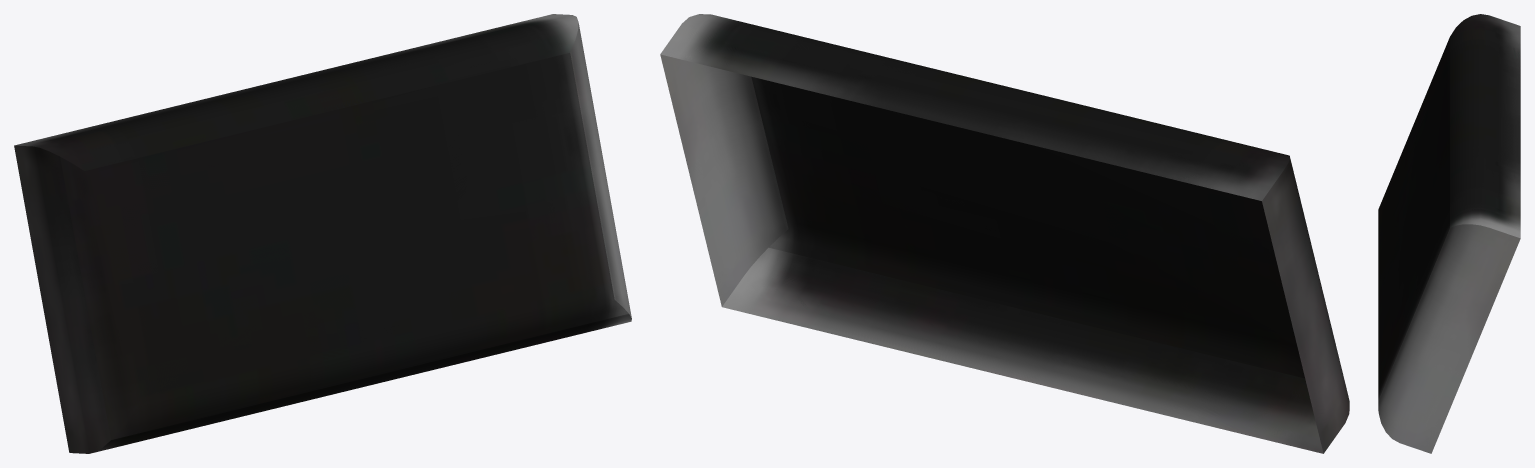
File: link_1__button-2.glb
3 views of the same model, side by side, from view 1: azimuth 30°, elevation 25°; view 2: azimuth 150°, elevation 25°; view 3: azimuth 270°, elevation 25° (orthographic). The views are drawn at different scales.
Parts seen in each view (by area): view 1: world; view 2: world; view 3: world.
Boxes of the visible parts, x1,y1,x2,y2 form: world: [14, 14, 631, 453]; world: [660, 14, 1349, 453]; world: [1378, 14, 1520, 453].
Size of the model in its own units: 0.0354 by 0.0177 by 0.01.
Materials: 1 (1 with a texture image).
